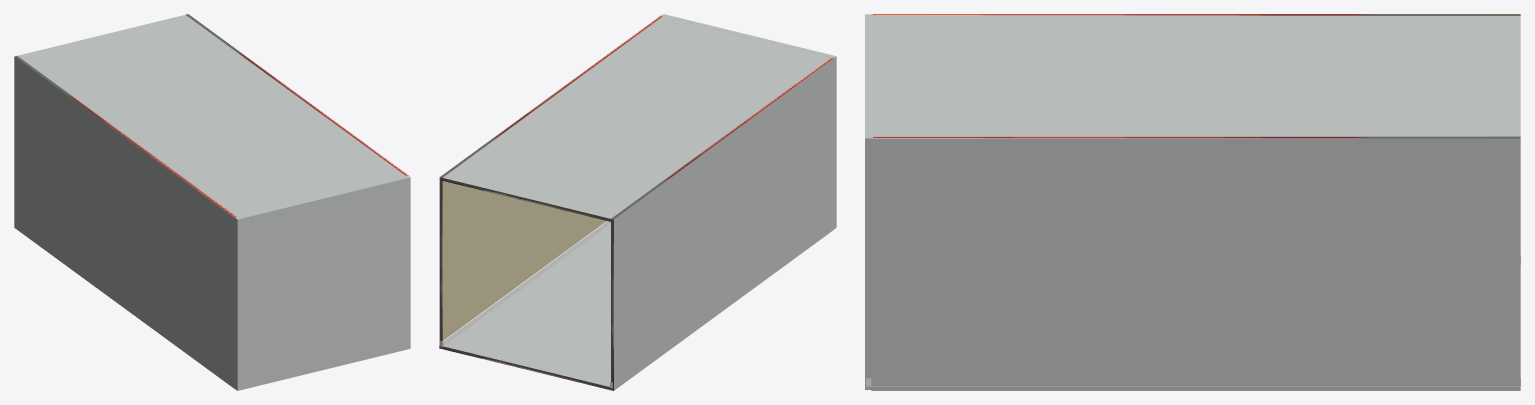
File: corridoio2.glb
3 views of the same model, side by side, from view 1: azimuth 30°, elevation 25°; view 2: azimuth 150°, elevation 25°; view 3: azimuth 270°, elevation 25° (orthographic). The views are drawn at different scales.
Parts seen in each view (by area): view 1: Cube.001; view 2: Cube.001, Cube; view 3: Cube.001.
Boxes of the visible parts, x1,y1,x2,y2 form: Cube.001: (14, 14, 410, 390); Cube.001: (439, 14, 836, 390); Cube: (440, 221, 610, 346); Cube.001: (865, 14, 1520, 390).
Size of what is drawn, in the model's own units: 6.08 by 5.71 by 13.48.
6 materials, 6 textured.
